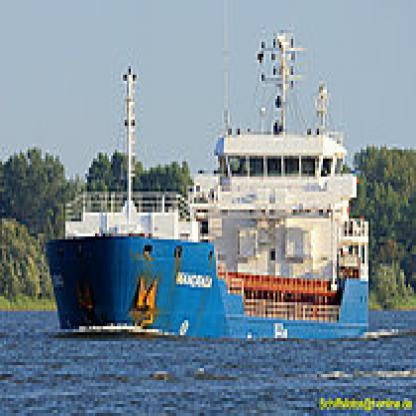Container Ship: (44, 24, 372, 339)
